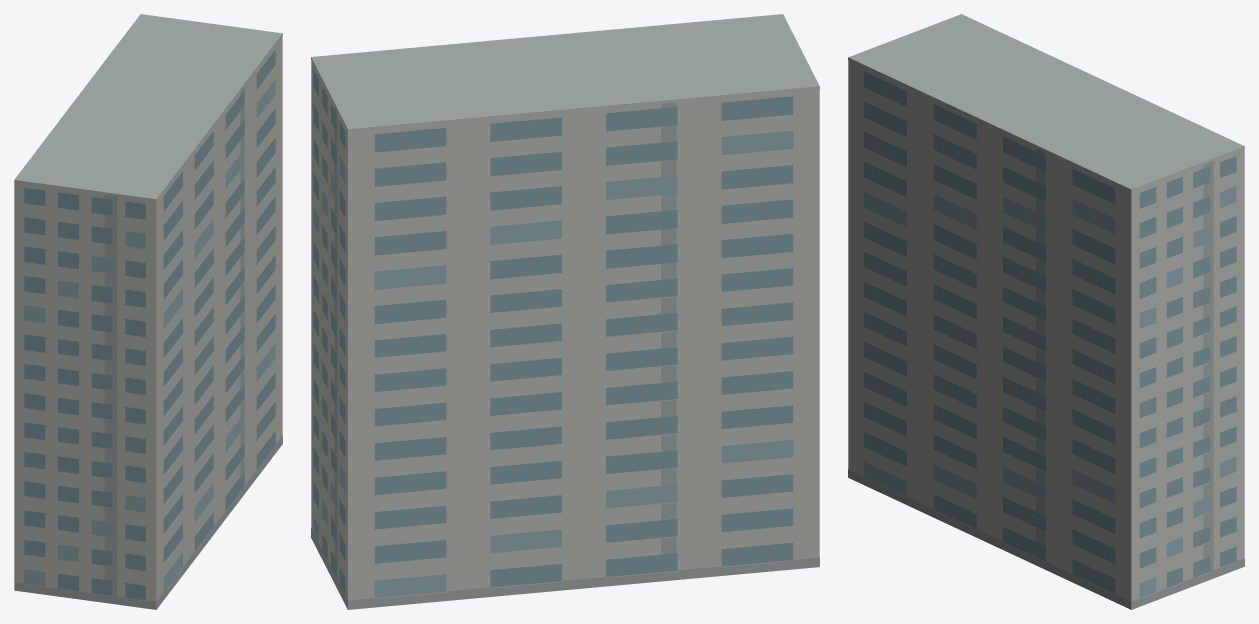
File: residential-9d68d0f9-6cf5-43aa-a208-217e5a15ae2e.glb
3 views of the same model, side by side, from view 1: azimuth 30°, elevation 25°; view 2: azimuth 150°, elevation 25°; view 3: azimuth 270°, elevation 25° (orthographic). The views are drawn at different scales.
Parts seen in each view (by area): view 1: residential-9d68d0f9-6cf5-43aa-a208-217e5a15ae2e.tmp; view 2: residential-9d68d0f9-6cf5-43aa-a208-217e5a15ae2e.tmp; view 3: residential-9d68d0f9-6cf5-43aa-a208-217e5a15ae2e.tmp.
Boxes of the visible parts, box(x1,y1,x2,y2) form: residential-9d68d0f9-6cf5-43aa-a208-217e5a15ae2e.tmp: box(14, 14, 282, 609); residential-9d68d0f9-6cf5-43aa-a208-217e5a15ae2e.tmp: box(311, 14, 819, 609); residential-9d68d0f9-6cf5-43aa-a208-217e5a15ae2e.tmp: box(848, 14, 1244, 609).
Size of the model in its own units: 34.95 by 39 by 33.36.
